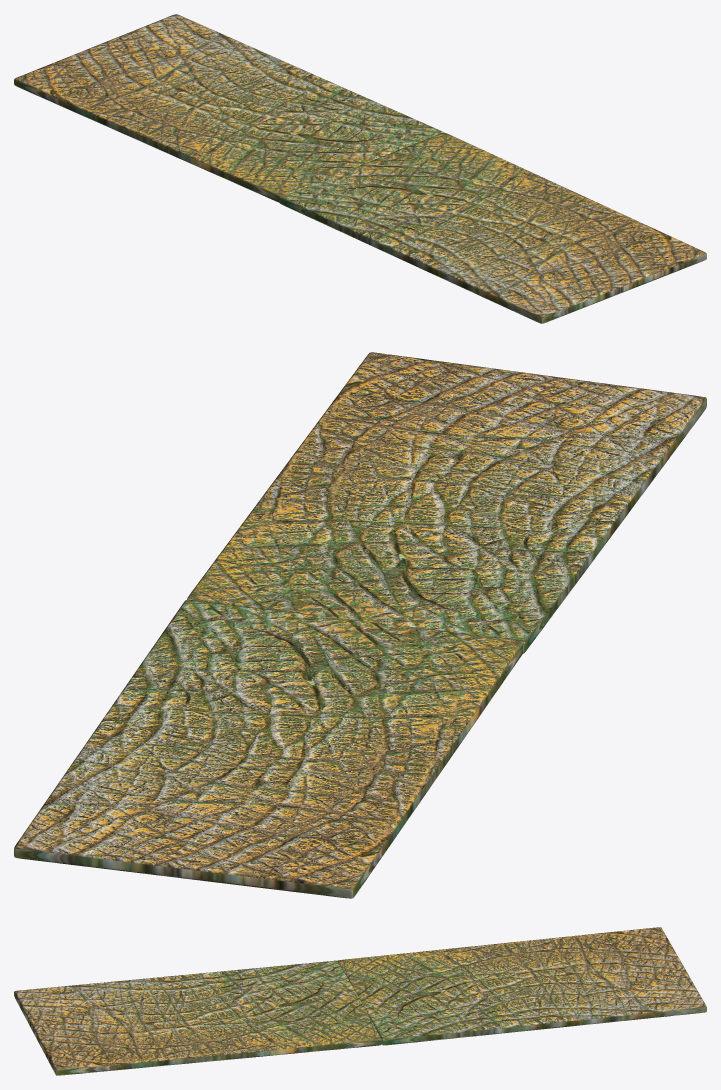
Rendered from Tapete.obj.
3 views of the same model, one above another, from view 1: azimuth 30°, elevation 25°; view 2: azimuth 150°, elevation 25°; view 3: azimuth 270°, elevation 25° (orthographic). The views are drawn at different scales.
Visible parts, largest first — view 1: Tapete:_Rectangular_rug_v1, Tapete1:_Rectangular_rug_v1; view 2: Tapete1:_Rectangular_rug_v1, Tapete:_Rectangular_rug_v1; view 3: Tapete1:_Rectangular_rug_v1, Tapete:_Rectangular_rug_v1.
Boxes of the visible parts, x1,y1,x2,y2 form: Tapete:_Rectangular_rug_v1: [279, 132, 706, 323]; Tapete1:_Rectangular_rug_v1: [14, 14, 443, 202]; Tapete1:_Rectangular_rug_v1: [14, 600, 524, 898]; Tapete:_Rectangular_rug_v1: [187, 352, 706, 653]; Tapete1:_Rectangular_rug_v1: [337, 927, 706, 1045]; Tapete:_Rectangular_rug_v1: [14, 960, 381, 1075].
Bounding box in the file's own units: 2.08 × 0.0485 × 4.26.
Materials: 2 (2 with a texture image).
